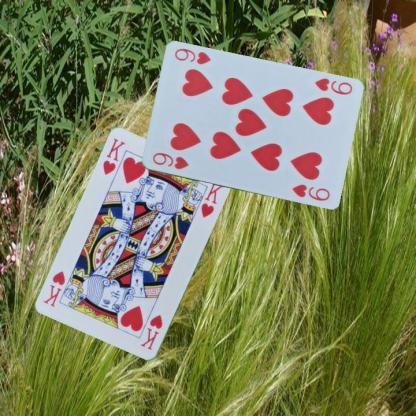9h: (312, 75, 354, 97), (150, 150, 190, 171)
Kh: (100, 136, 128, 177), (138, 312, 164, 352)
